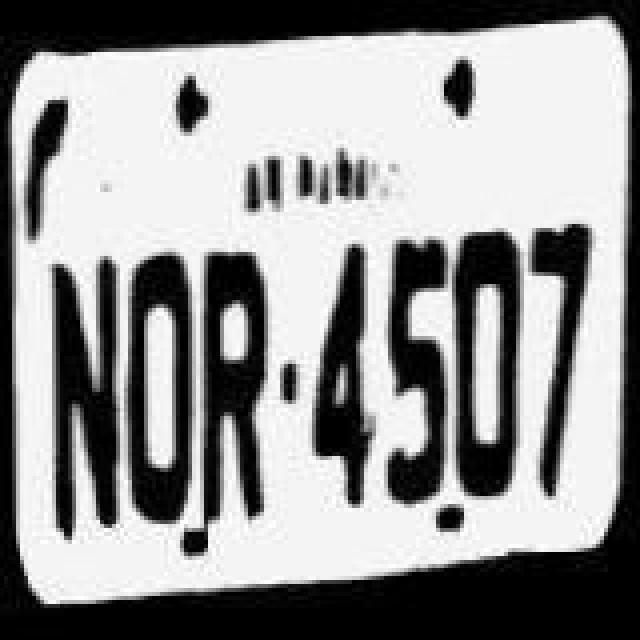4: (306, 236, 378, 516)
5: (376, 230, 452, 502)
7: (524, 218, 608, 494)
N: (46, 228, 130, 548)
O: (120, 220, 196, 528), (446, 228, 526, 504)
R: (194, 244, 286, 528)
